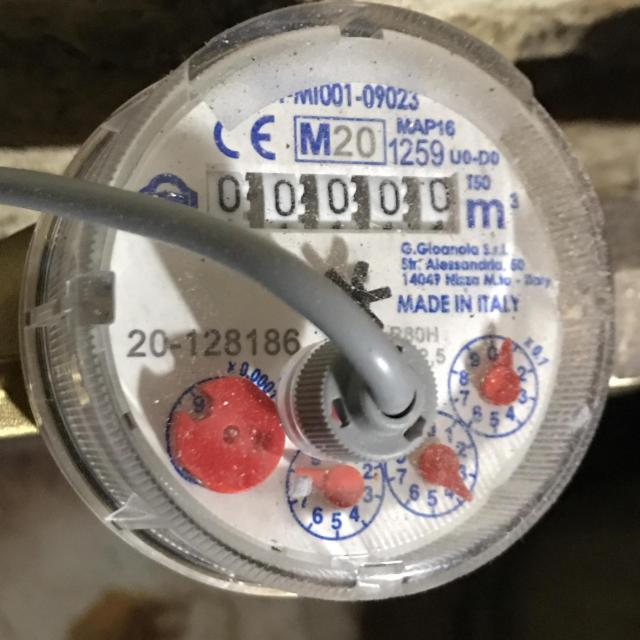gaz_meter: (104, 19, 569, 574)
indication: (205, 166, 459, 236)
